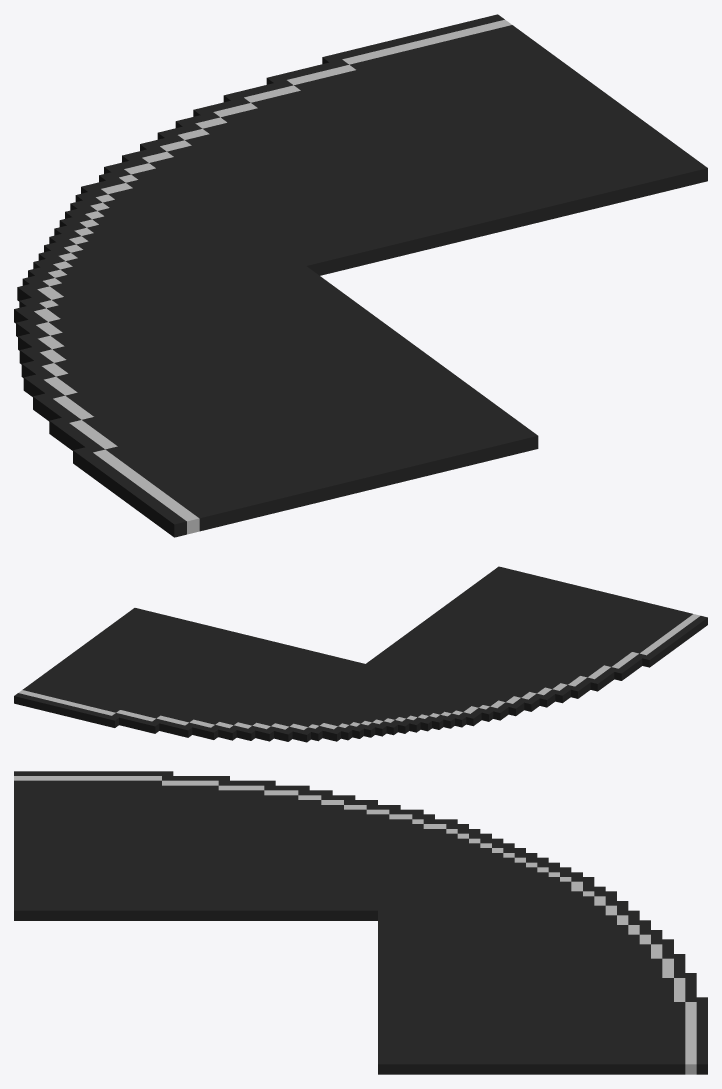
The model's file is asphalt-rounded-large-outer.gltf.
3 renders of one model, top to bottom at view 1: azimuth 30°, elevation 25°; view 2: azimuth 150°, elevation 25°; view 3: azimuth 270°, elevation 25°, orthographic. The views are drawn at different scales.
Parts seen in each view (by area): view 1: asphalt-rounded-large-outer_model; view 2: asphalt-rounded-large-outer_model; view 3: asphalt-rounded-large-outer_model.
Part boxes in pixels (x1=…): asphalt-rounded-large-outer_model: x1=14, y1=14, x2=707, y2=537; asphalt-rounded-large-outer_model: x1=14, y1=566, x2=707, y2=742; asphalt-rounded-large-outer_model: x1=14, y1=771, x2=707, y2=1074.
Bounding box in the file's own units: 6.1 × 0.1 × 6.1.
1 material, 1 textured.
